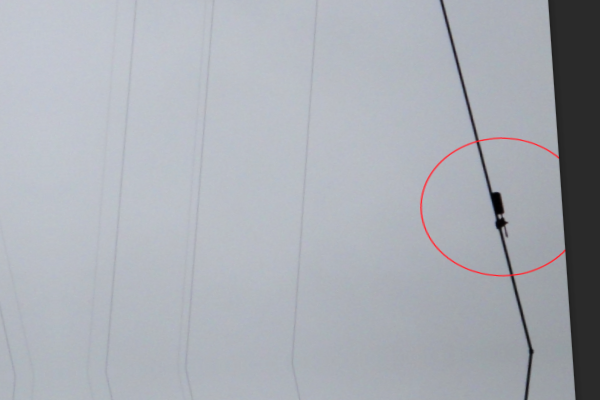damper_defect: (489, 189, 511, 242)
